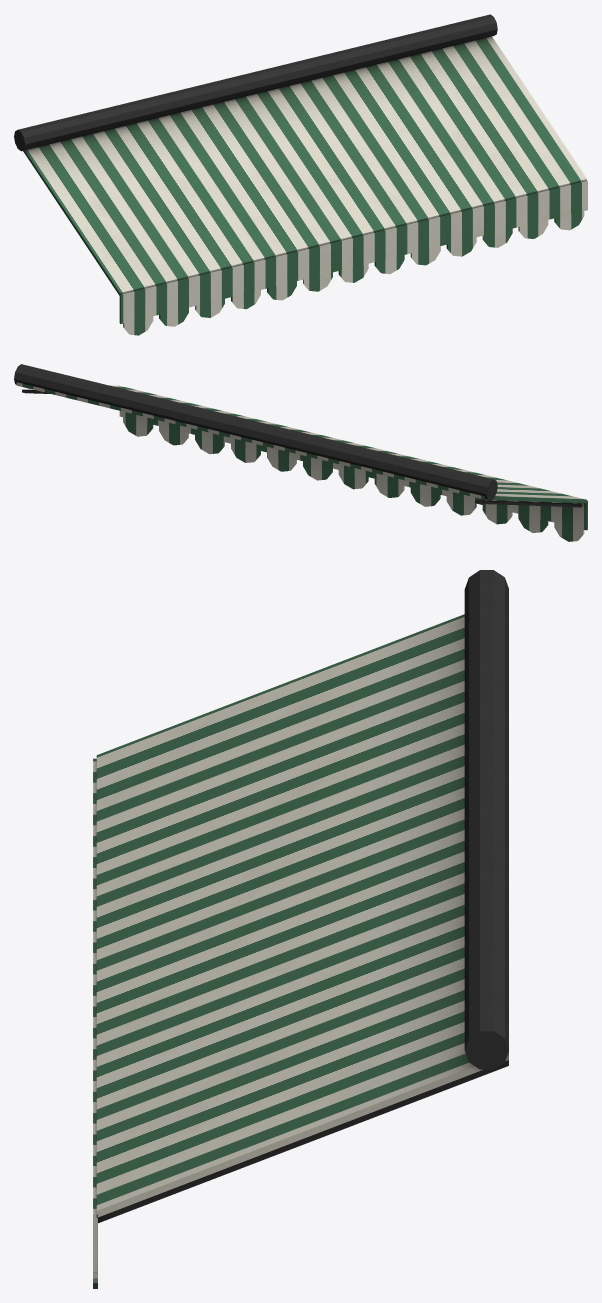
File: awning_34_green.glb
The picture shows the model from 3 angles, top to bottom: view 1: azimuth 30°, elevation 25°; view 2: azimuth 150°, elevation 25°; view 3: azimuth 270°, elevation 25°; orthographic projection. The views are drawn at different scales.
Parts seen in each view (by area): view 1: awning_34_green; view 2: awning_34_green; view 3: awning_34_green.
Part boxes in pixels (left/top/right/bottom): awning_34_green: left=14, top=14, right=587, bottom=335; awning_34_green: left=14, top=364, right=587, bottom=541; awning_34_green: left=93, top=570, right=508, bottom=1288.
Size of the model in its own units: 3.44 by 0.9566 by 1.31.
Materials: 1 (1 with a texture image).
